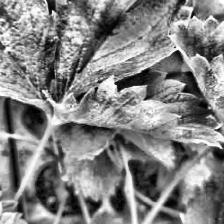Powdery Mildew Leaf: (46, 66, 224, 149), (166, 16, 224, 165)
